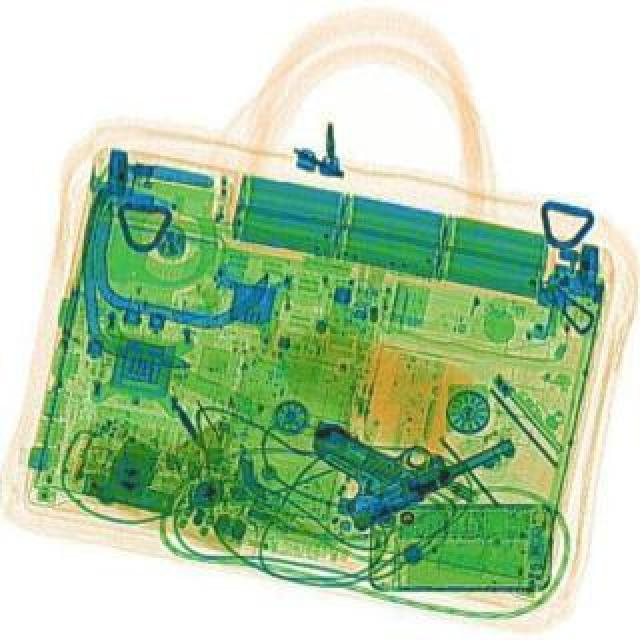gun: (300, 354, 516, 526)
